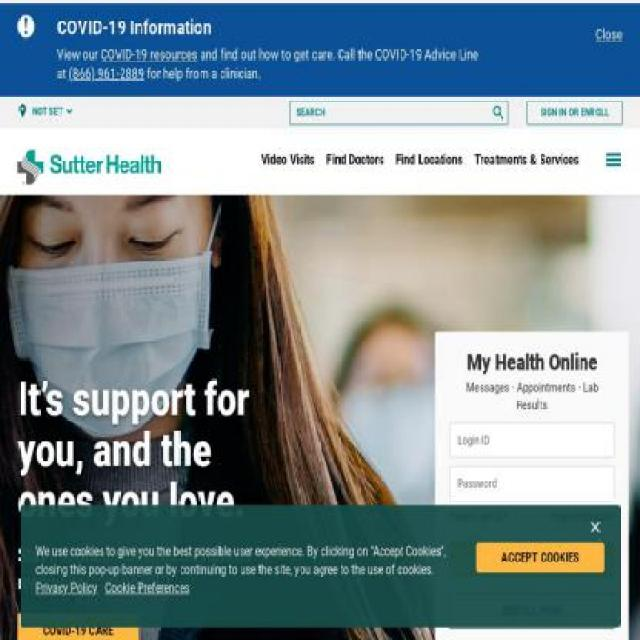button: (18, 141, 160, 194), (449, 592, 614, 630), (449, 540, 614, 577), (476, 542, 604, 573), (18, 613, 139, 639), (526, 100, 623, 125), (600, 138, 632, 178), (550, 508, 615, 524), (449, 508, 508, 524), (586, 509, 605, 543), (595, 24, 623, 44)
field: (449, 420, 614, 458), (449, 464, 614, 502), (289, 101, 489, 124)
